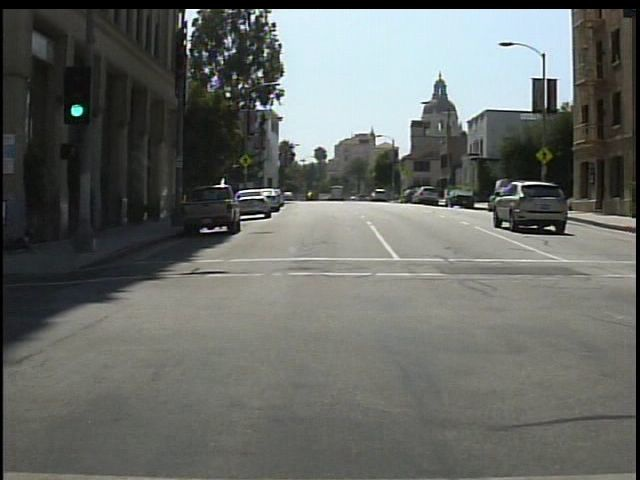person: (3, 161, 11, 266)
